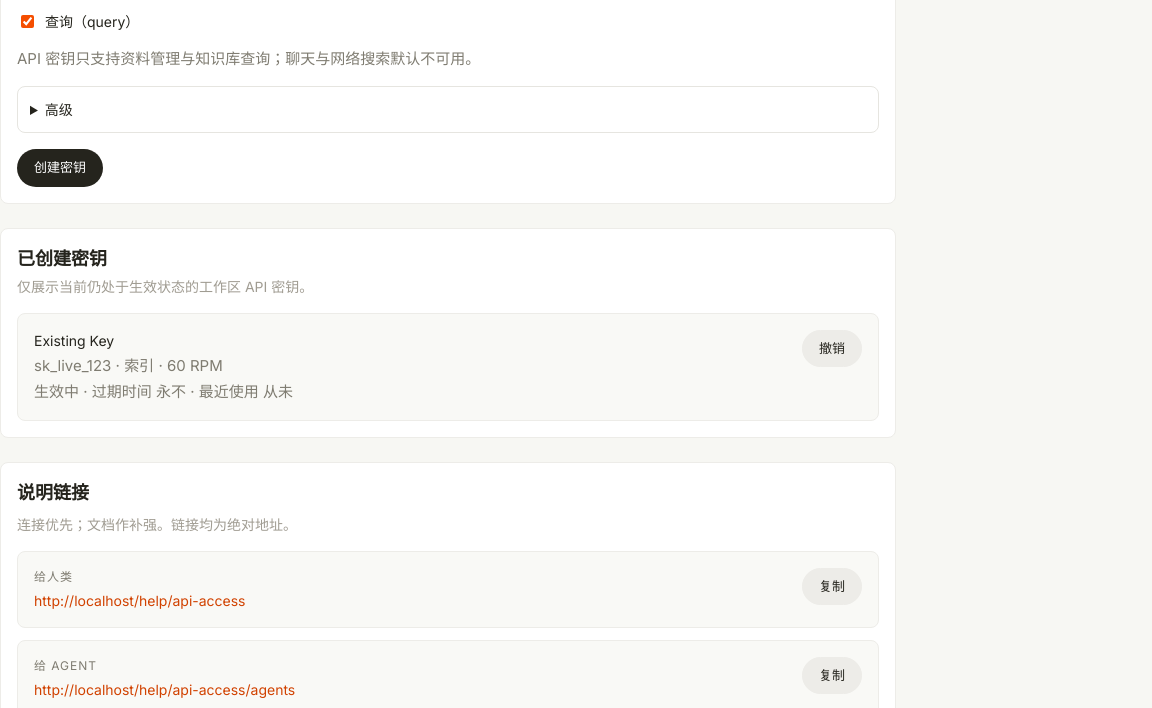
Test case: WorkspaceApiAccessSurface › revokes a listed api key from the active workspace
(page scrolled)
Expected: the text "Existing Key" is shown, [34, 332, 114, 349]
Click the button "撤销".
click(832, 348)  # box [802, 330, 862, 367]
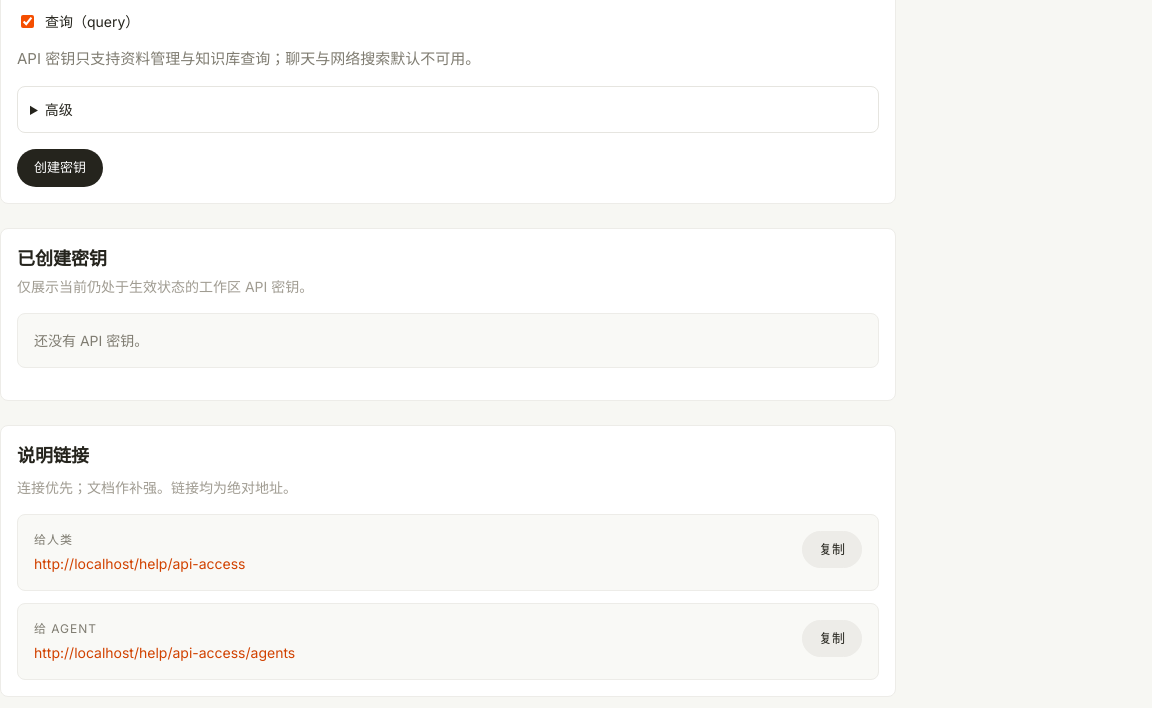
Result: the text "Existing Key" is gone
